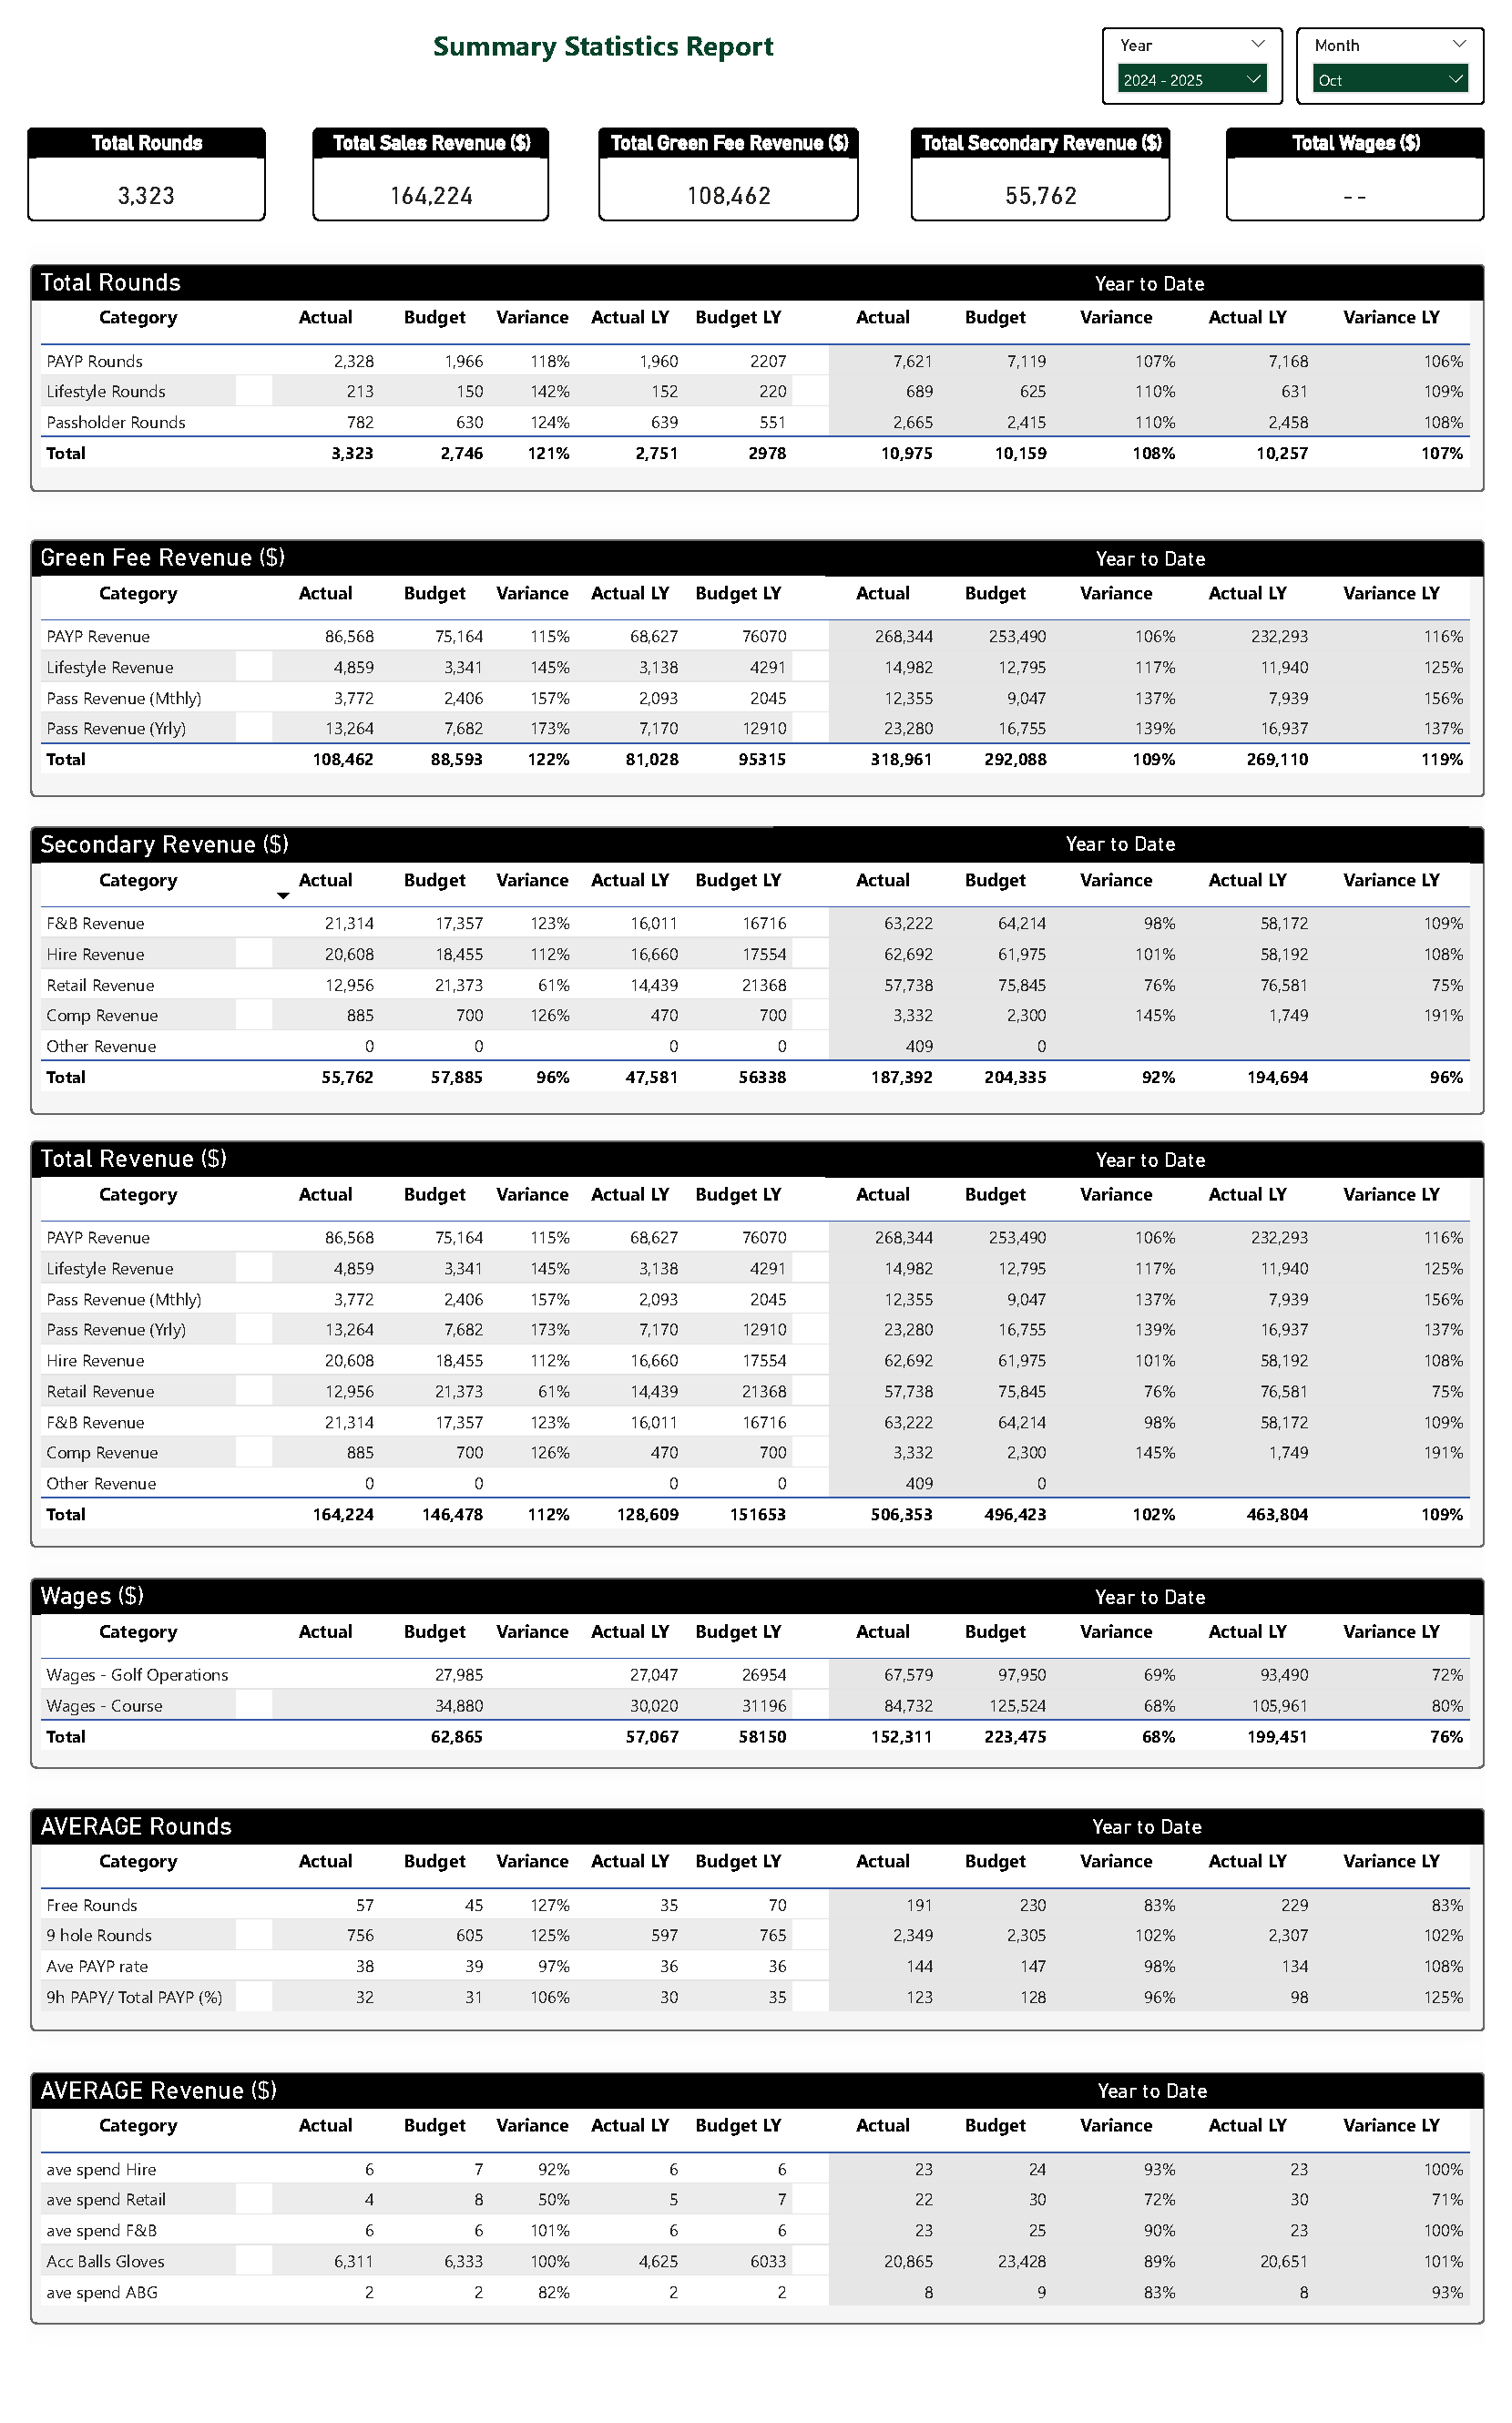

This screenshot's page, from the dashboard's own definition file:
{"tool":"powerbi","page":{"name":"Summary Statistics","canvas":[1280,2080],"ordinal":7},"visuals":[{"type":"textbox","box":[352,0,448,64],"z":2000},{"type":"slicer","title":"Year","fields":{"Values":["MSS Date Dim.Financial Year"]},"box":[944.3,0,158.6,68],"z":3000},{"type":"slicer","title":"Month","fields":{"Values":["MSS Date Dim.Month Name"]},"box":[1115.2,0,164.8,68],"z":4000},{"type":"tableEx","title":"Wages ($)","fields":{"Values":["Summary Ranking.Monthly Summary Statisitcs","MSS Report.Column","Sum(MSS Report.Actual)","Sum(MSS Report.Budget)","MSS Report.Variance","MSS Report.Actual Last Year.","MSS Report.Budget LY","MSS Report.Column","MSS Report.Cum. Actual","MSS Report.Cum. Budget","MSS Report.Cum. Variance","MSS Report.Cum. Actual LY"]},"box":[3.1,1362.4,1276.9,166.8],"z":7000},{"type":"tableEx","title":"AVERAGE Rounds","fields":{"Values":["Summary Ranking.Monthly Summary Statisitcs","MSS Report.Column","Sum(MSS Report.Actual)","Sum(MSS Report.Budget)","MSS Report.Variance","MSS Report.Actual Last Year.","MSS Report.Budget LY","MSS Report.Column","MSS Report.Cum. Actual","MSS Report.Cum. Budget","MSS Report.Cum. Variance","MSS Report.Cum. Actual LY"]},"box":[3.1,1564.2,1276.9,195.7],"z":8000},{"type":"tableEx","title":"AVERAGE Revenue ($)","fields":{"Values":["Summary Ranking.Monthly Summary Statisitcs","MSS Report.Column","Sum(MSS Report.Actual)","Sum(MSS Report.Budget)","MSS Report.Variance","MSS Report.Actual Last Year.","MSS Report.Budget LY","MSS Report.Column","MSS Report.Cum. Actual","MSS Report.Cum. Budget","MSS Report.Cum. Variance","MSS Report.Cum. Actual LY"]},"box":[3.1,1795.9,1276.9,221.4],"z":9000},{"type":"cardVisual","title":"Total Sales Revenue ($)","fields":{"Data":["Sum(MSS Report.Actual)"]},"box":[250.8,88.1,206.7,81.8],"z":10000},{"type":"cardVisual","title":"Total Green Fee Revenue ($)","fields":{"Data":["Sum(MSS Report.Actual)"]},"box":[501.6,88.1,228.3,81.8],"z":11000},{"type":"cardVisual","title":"Total Rounds","fields":{"Data":["Sum(MSS Report.Actual)"]},"box":[0,88.1,208.5,81.8],"z":12000},{"type":"tableEx","title":"Total Revenue ($)","fields":{"Values":["Summary Ranking.Monthly Summary Statisitcs","MSS Report.Column","Sum(MSS Report.Actual)","Sum(MSS Report.Budget)","MSS Report.Variance","MSS Report.Actual Last Year.","MSS Report.Budget LY","MSS Report.Column","MSS Report.Cum. Actual","MSS Report.Cum. Budget","MSS Report.Cum. Variance","MSS Report.Cum. Actual LY"]},"box":[3.1,978.3,1276.9,356.3],"z":13000},{"type":"tableEx","title":"Secondary Revenue ($)","fields":{"Values":["Summary Ranking.Monthly Summary Statisitcs","MSS Report.Column","Sum(MSS Report.Actual)","Sum(MSS Report.Budget)","MSS Report.Variance","MSS Report.Actual Last Year.","MSS Report.Budget LY","MSS Report.Column","MSS Report.Cum. Actual","MSS Report.Cum. Budget","MSS Report.Cum. Variance","MSS Report.Cum. Actual LY"]},"box":[3.1,702.3,1276.9,252.3],"z":14000},{"type":"tableEx","title":"Green Fee Revenue ($)","fields":{"Values":["Summary Ranking.Monthly Summary Statisitcs","MSS Report.Column","Sum(MSS Report.Actual)","Sum(MSS Report.Budget)","MSS Report.Variance","MSS Report.Actual Last Year.","MSS Report.Budget LY","MSS Report.Column","MSS Report.Cum. Actual","MSS Report.Cum. Budget","MSS Report.Cum. Variance","MSS Report.Cum. Actual LY"]},"box":[3.1,450,1276.9,225.5],"z":15000},{"type":"tableEx","title":"Total Rounds","fields":{"Values":["Summary Ranking.Monthly Summary Statisitcs","MSS Report.Column","Sum(MSS Report.Actual)","Sum(MSS Report.Budget)","MSS Report.Variance","MSS Report.Actual Last Year.","MSS Report.Budget LY","MSS Report.Column","MSS Report.Cum. Actual","MSS Report.Cum. Budget","MSS Report.Cum. Variance","MSS Report.Cum. Actual LY"]},"box":[3.1,208,1276.9,199.8],"z":16000},{"type":"cardVisual","title":"Total Wages ($)","fields":{"Data":["Sum(MSS Report.Actual)"]},"box":[1052.6,88.1,227.4,81.8],"z":17000},{"type":"cardVisual","title":"Total Secondary Revenue ($)","fields":{"Data":["Sum(MSS Report.Actual)"]},"box":[776.3,88,227.3,81.7],"z":18000},{"type":"card","fields":{"Values":["MSS Report.YTD"]},"box":[700.9,211.5,570.5,28.3],"z":19000},{"type":"card","fields":{"Values":["MSS Report.YTD"]},"box":[701.3,451,571.5,30.9],"z":20000},{"type":"card","fields":{"Values":["MSS Report.YTD"]},"box":[701.3,980.3,571.5,29.9],"z":21000},{"type":"card","fields":{"Values":["MSS Report.YTD"]},"box":[697.2,1365.5,578.7,26.8],"z":22000},{"type":"card","fields":{"Values":["MSS Report.YTD"]},"box":[696.1,1567.3,574.6,26.8],"z":23000},{"type":"card","fields":{"Values":["MSS Report.YTD"]},"box":[703.3,1799,570.5,26.8],"z":24000},{"type":"card","fields":{"Values":["MSS Report.YTD"]},"box":[654.8,701.9,610.8,31.4],"z":25000}]}

Visuals, with their boxes in screenshot pixels (x1, y1, x2, y2), scaled from the page's 1280x2080 canvas onto the 1512x2423 screenshot:
textbox: bbox(415, 0, 945, 75)
"Year" slicer: bbox(1116, 0, 1303, 79)
"Month" slicer: bbox(1317, 0, 1511, 79)
"Wages ($)" tableEx: bbox(4, 1587, 1511, 1782)
"AVERAGE Rounds" tableEx: bbox(4, 1822, 1511, 2050)
"AVERAGE Revenue ($)" tableEx: bbox(4, 2092, 1511, 2350)
"Total Sales Revenue ($)" cardVisual: bbox(296, 103, 540, 198)
"Total Green Fee Revenue ($)" cardVisual: bbox(593, 103, 863, 198)
"Total Rounds" cardVisual: bbox(0, 103, 246, 198)
"Total Revenue ($)" tableEx: bbox(4, 1140, 1511, 1555)
"Secondary Revenue ($)" tableEx: bbox(4, 818, 1511, 1112)
"Green Fee Revenue ($)" tableEx: bbox(4, 524, 1511, 787)
"Total Rounds" tableEx: bbox(4, 242, 1511, 475)
"Total Wages ($)" cardVisual: bbox(1243, 103, 1511, 198)
"Total Secondary Revenue ($)" cardVisual: bbox(917, 103, 1186, 198)
card - MSS Report.YTD: bbox(828, 246, 1502, 280)
card - MSS Report.YTD: bbox(828, 526, 1504, 561)
card - MSS Report.YTD: bbox(828, 1142, 1504, 1177)
card - MSS Report.YTD: bbox(823, 1590, 1507, 1622)
card - MSS Report.YTD: bbox(822, 1825, 1501, 1857)
card - MSS Report.YTD: bbox(831, 2096, 1505, 2127)
card - MSS Report.YTD: bbox(773, 818, 1495, 854)
